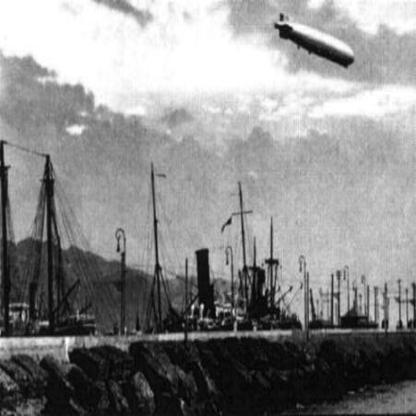Airship: (272, 13, 360, 75)
